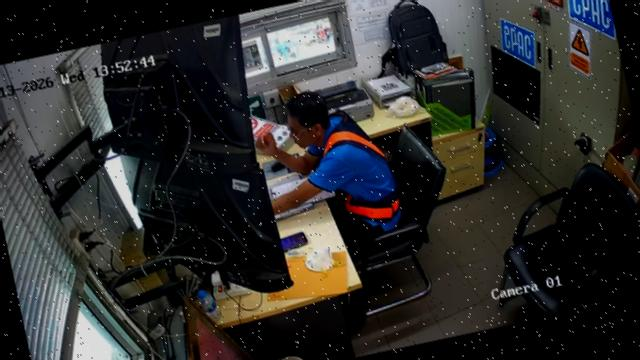Head: (285, 91, 331, 146)
People: (256, 91, 402, 257)
Phone: (280, 232, 308, 251)
